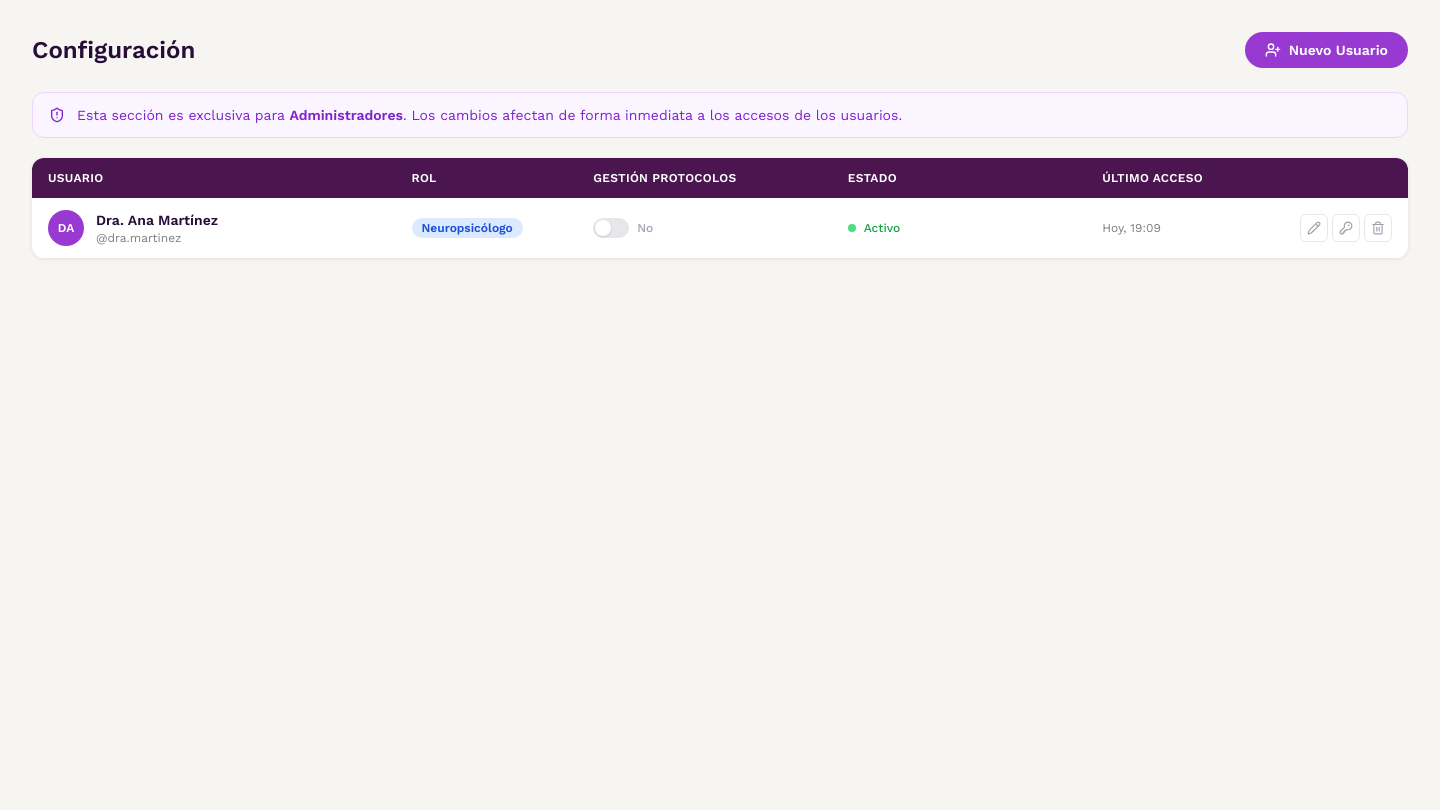
Settings › opens create user modal on Nuevo Usuario click
Expected: the text "Dra. Ana Martínez" is shown, [96,210,218,230]
Click the button "Nuevo Usuario".
click(1326, 50)  # box [1245,32,1408,68]
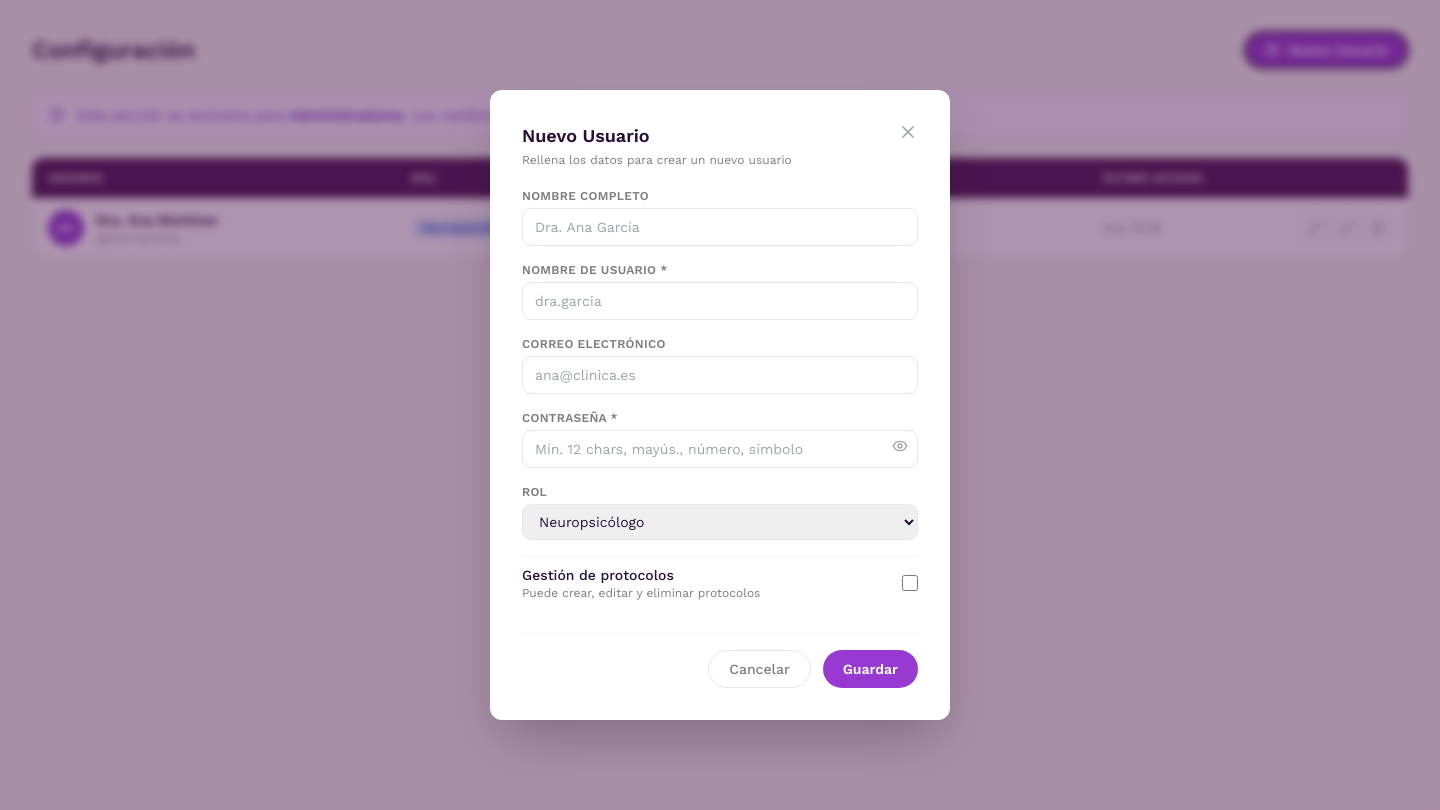
Expected: the heading "Nuevo Usuario" is shown, [522,125,650,146]
